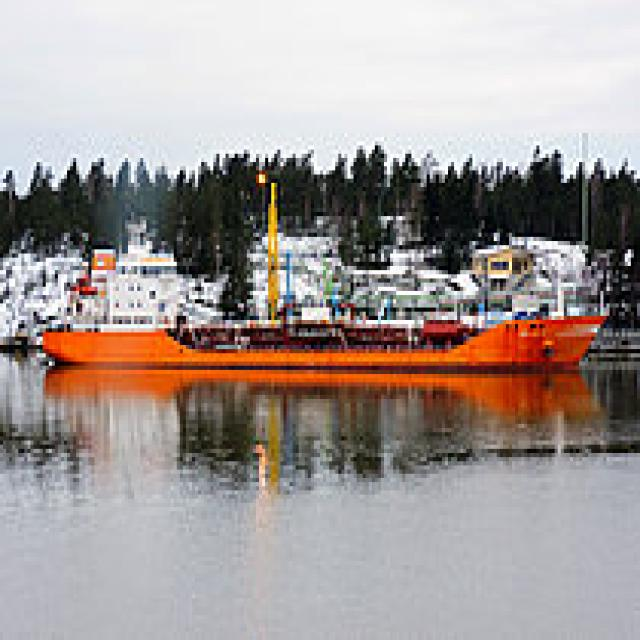Tanker: (39, 174, 606, 366)
